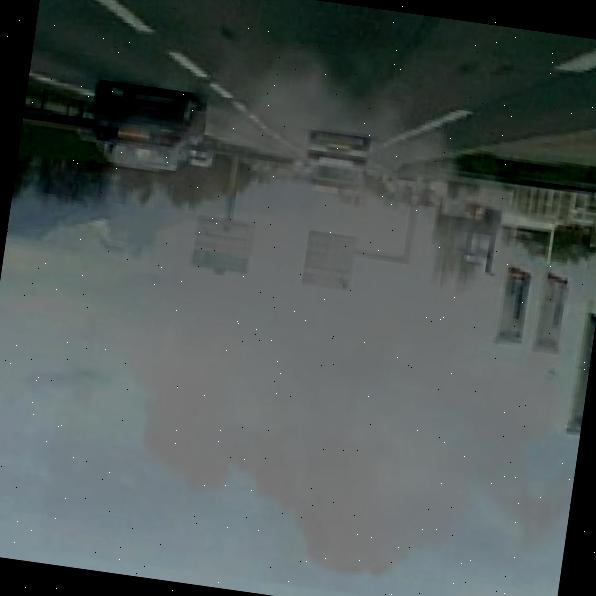smoke: (36, 0, 596, 596)
